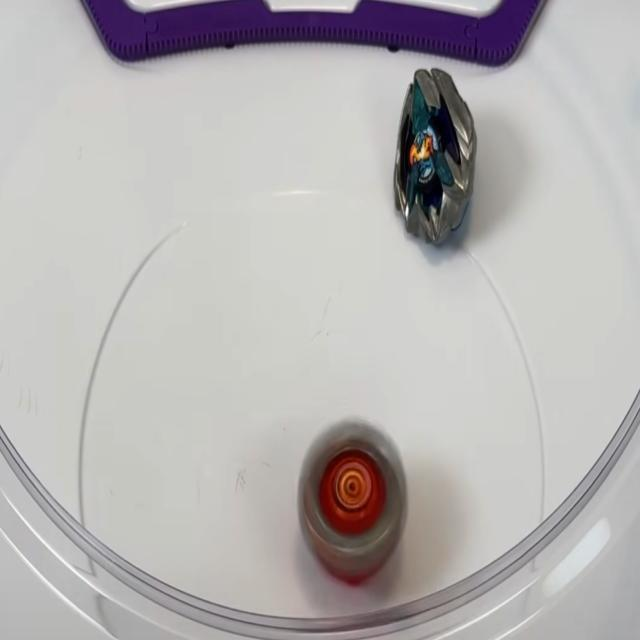Beyblade: (294, 418, 408, 588), (391, 65, 478, 248)
